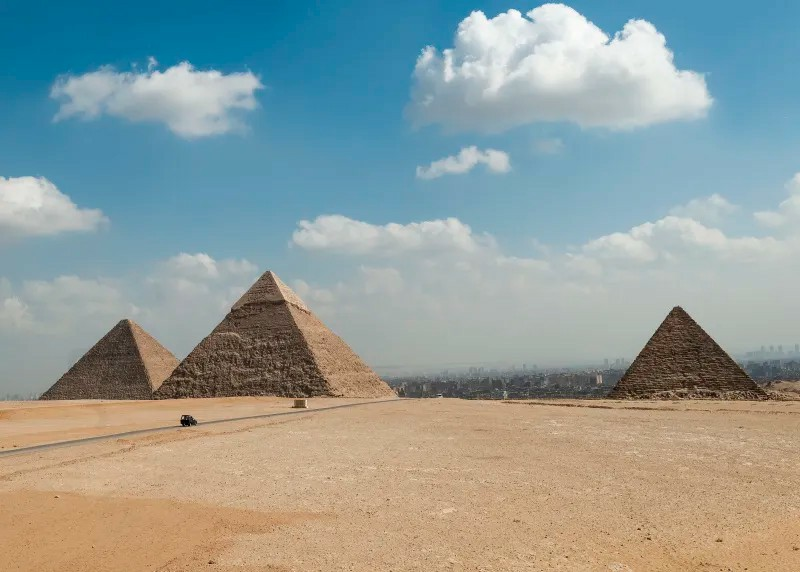Pyramid: (150, 271, 395, 397), (607, 308, 771, 403), (37, 320, 181, 401)
